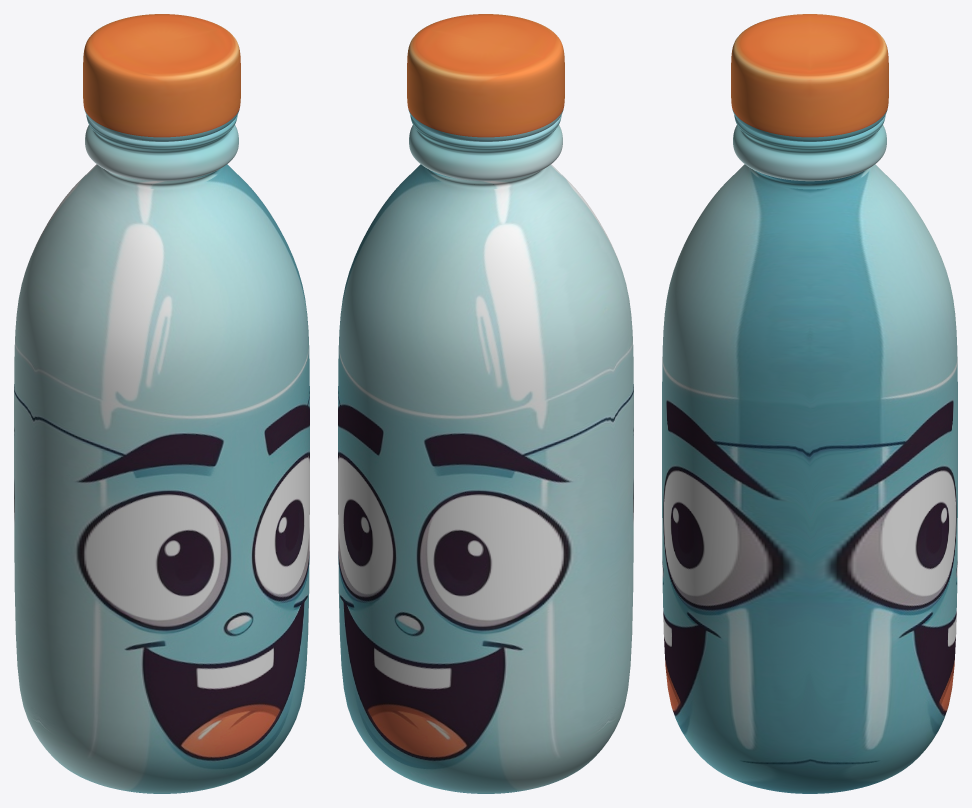
The model's file is 3d_garrafa_jpg_version.gltf.
3 views of the same model, side by side, from view 1: azimuth 30°, elevation 25°; view 2: azimuth 150°, elevation 25°; view 3: azimuth 270°, elevation 25° (orthographic).
Visible parts, largest first — view 1: Cylinder; view 2: Cylinder; view 3: Cylinder.
Part boxes in pixels (x1,y1,x2,y2): Cylinder: [14, 14, 309, 793]; Cylinder: [338, 14, 633, 793]; Cylinder: [662, 14, 957, 793].
Size of the model in its own units: 1.56 by 4.18 by 1.56.
1 material, 1 textured.
